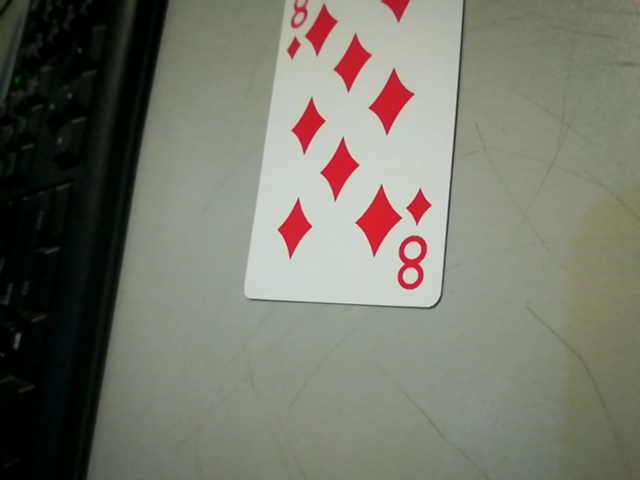fk 8: (385, 190, 441, 301)
